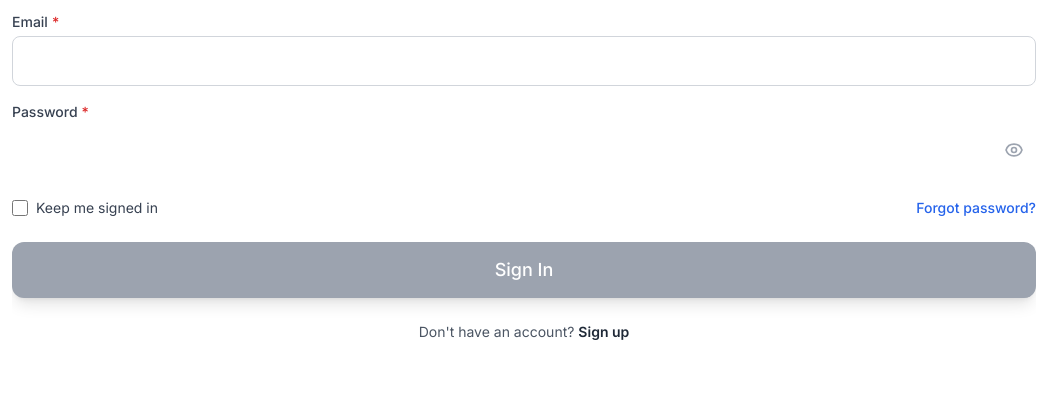
Test: LoginForm › clears validation errors when user corrects input
This screenshot has width=1048, height=407.
Note: Submit with empty email to trigger error
Step 1. Submit the form
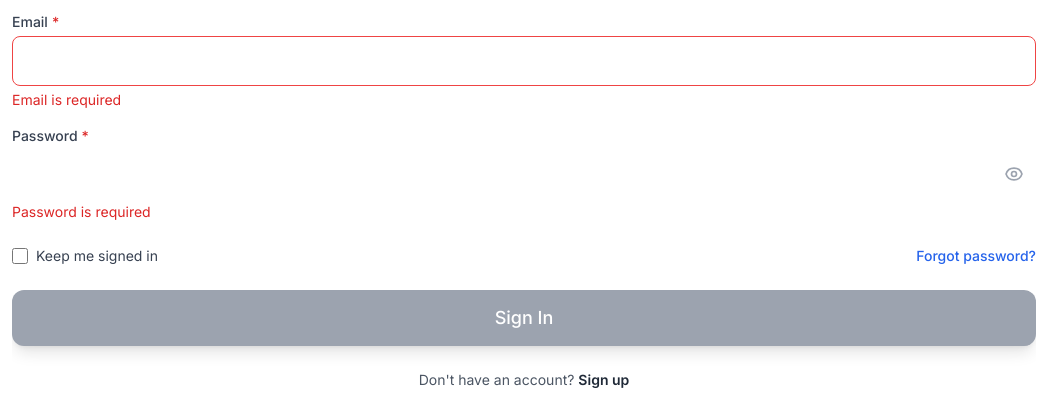
Now the text "Email is required" is shown, box [12,91,121,108]
Note: Correct the email and resubmit
Step 2. Type "test@example.com" into the field labelled "Email*" → [524, 61], box [12,36,1036,86]
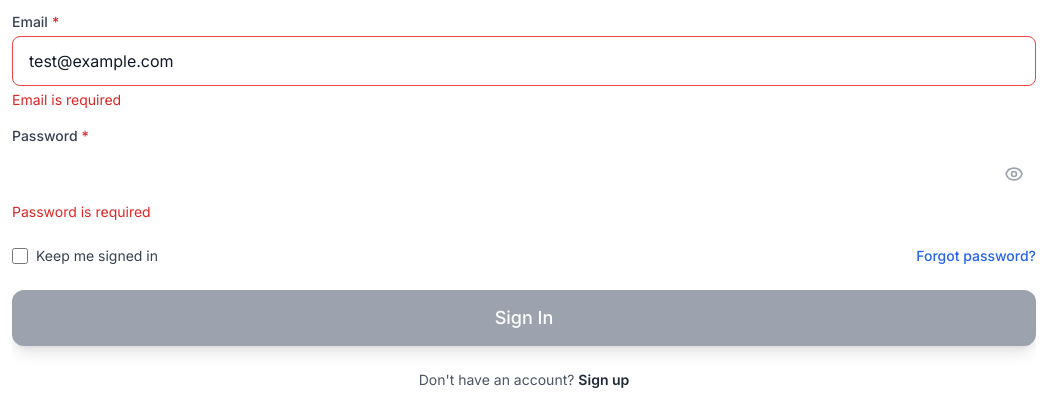
Step 3. Submit the form
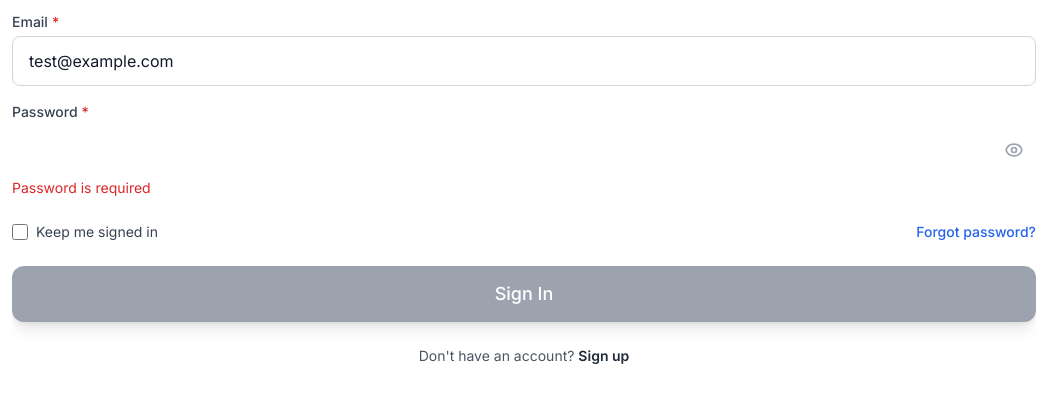
Now the text "Email is required" is gone
